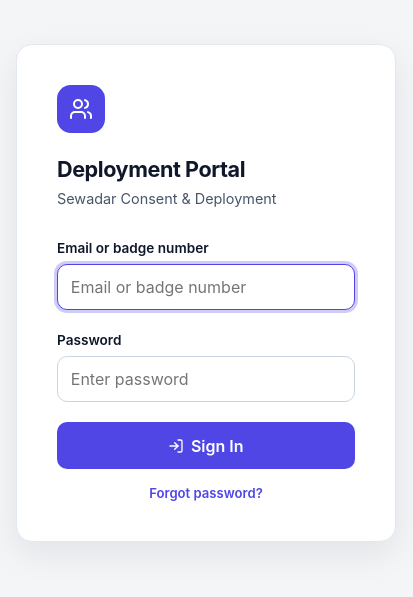
it: LoginPage dual login › a wrong password is not retried
The width and height of the screenshot is (413, 597).
Type "aso@example.com" into the field with placeholder "Email or badge number" at (206, 287), box [57, 264, 355, 310]
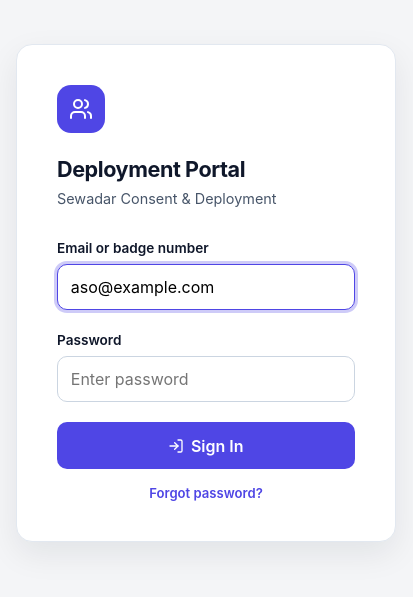
Type "secret123" into the password field with placeholder "Enter password" at (206, 379), box [57, 356, 355, 402]
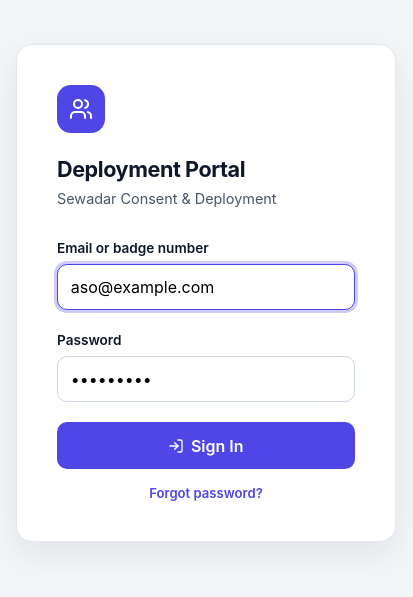
Click the button "Sign In" at (206, 446), box [57, 422, 355, 469]
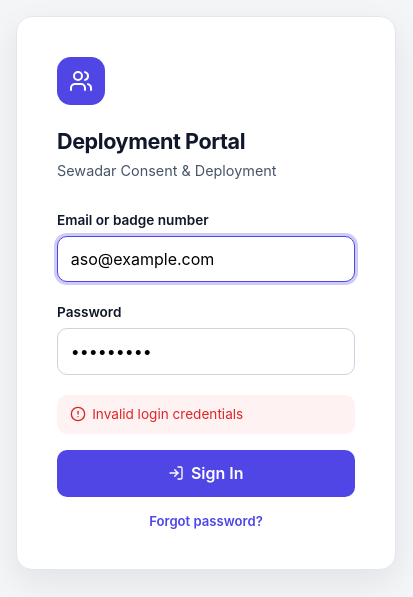
Now the text "Invalid login credentials" is shown, box [92, 404, 243, 425]
